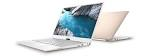laptop: (19, 1, 100, 49), (101, 8, 133, 44)
